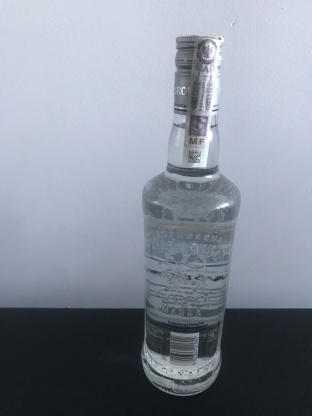nakretka: (171, 30, 226, 117)
